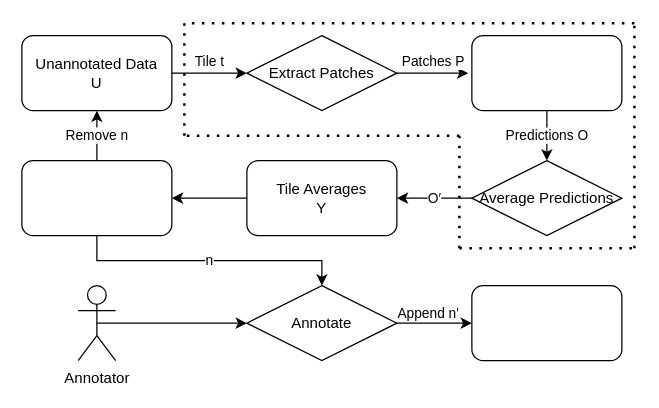
This 659x408 diagram has some shape labels left out. Here are the shapes that lost their labels. From the top down, the box of each, then its label:
(471, 34, 622, 111): Prediction Algorithm δ + θ
(21, 159, 172, 236): Query Strategy S
(471, 284, 622, 361): Annotated Data A
